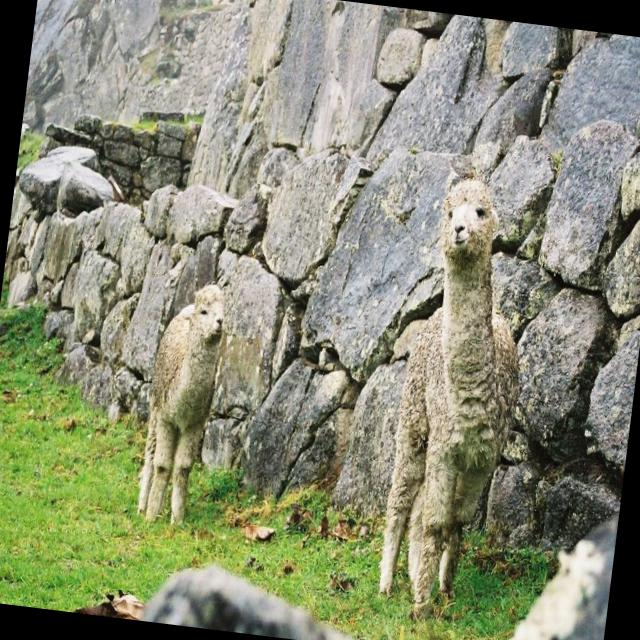alpaca: (374, 171, 536, 618), (134, 279, 228, 530)
